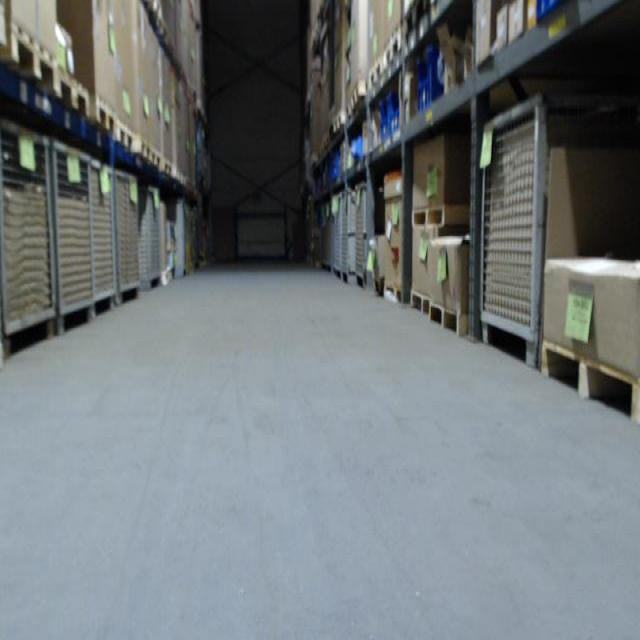pallet: (539, 343, 640, 425), (4, 26, 61, 101), (412, 199, 468, 229), (58, 74, 93, 118), (430, 303, 469, 336), (405, 0, 430, 37), (382, 27, 402, 72), (115, 120, 137, 153), (94, 99, 114, 134), (409, 289, 433, 314), (367, 58, 383, 92), (352, 80, 365, 112), (383, 286, 404, 303), (140, 139, 151, 163), (334, 111, 344, 135), (151, 151, 161, 169), (163, 162, 174, 176)
small_load_carrier: (420, 41, 446, 114), (389, 90, 408, 138), (379, 87, 393, 147)
stillage: (471, 90, 625, 375), (1, 109, 54, 380), (52, 131, 92, 350), (91, 151, 120, 324), (116, 170, 143, 315), (138, 181, 169, 289), (318, 192, 342, 279), (353, 182, 373, 270), (342, 188, 351, 291)
